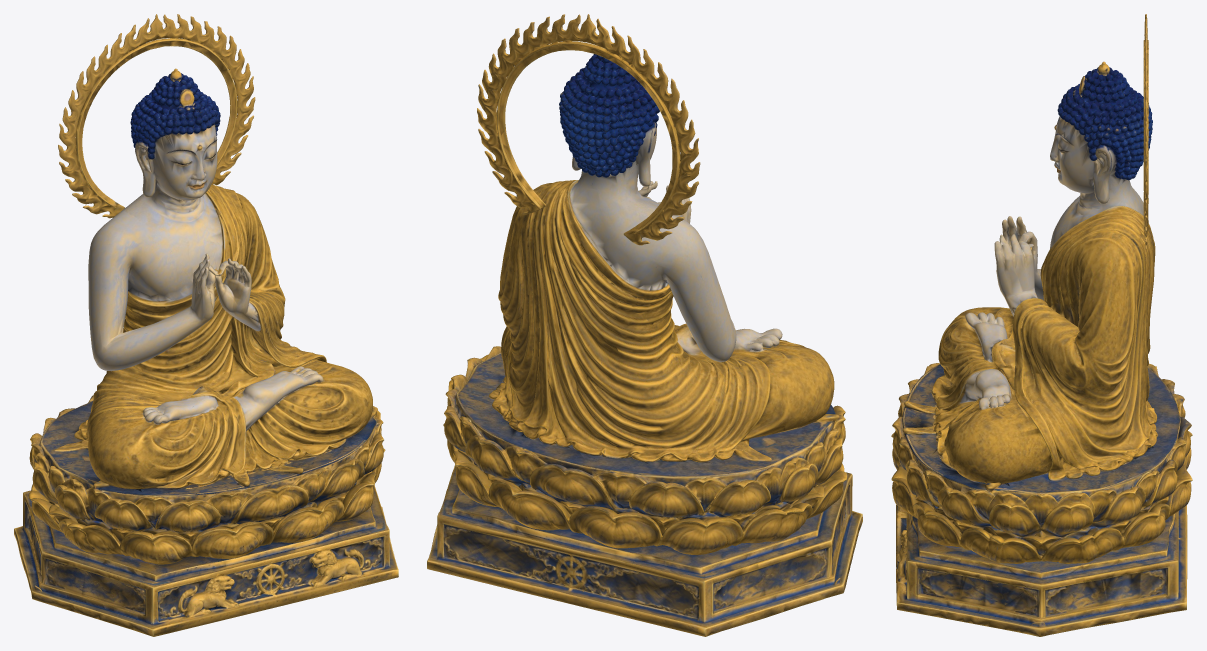
File: amitabha.glb
3 renders of one model, left to right at view 1: azimuth 30°, elevation 25°; view 2: azimuth 150°, elevation 25°; view 3: azimuth 270°, elevation 25°, orthographic. The views are drawn at different scales.
Parts seen in each view (by area): view 1: mesh-q; view 2: mesh-q; view 3: mesh-q.
Boxes of the visible parts, x1,y1,x2,y2 form: mesh-q: (14, 14, 398, 636); mesh-q: (427, 14, 862, 636); mesh-q: (891, 14, 1192, 636).
Size of the model in its own units: 1.38 by 1.9 by 0.9859.
Materials: 1 (1 with a texture image).
